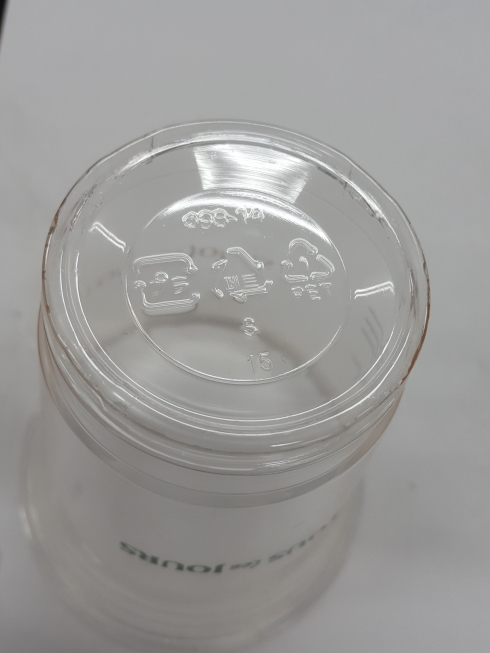recycle: (273, 235, 343, 304)
